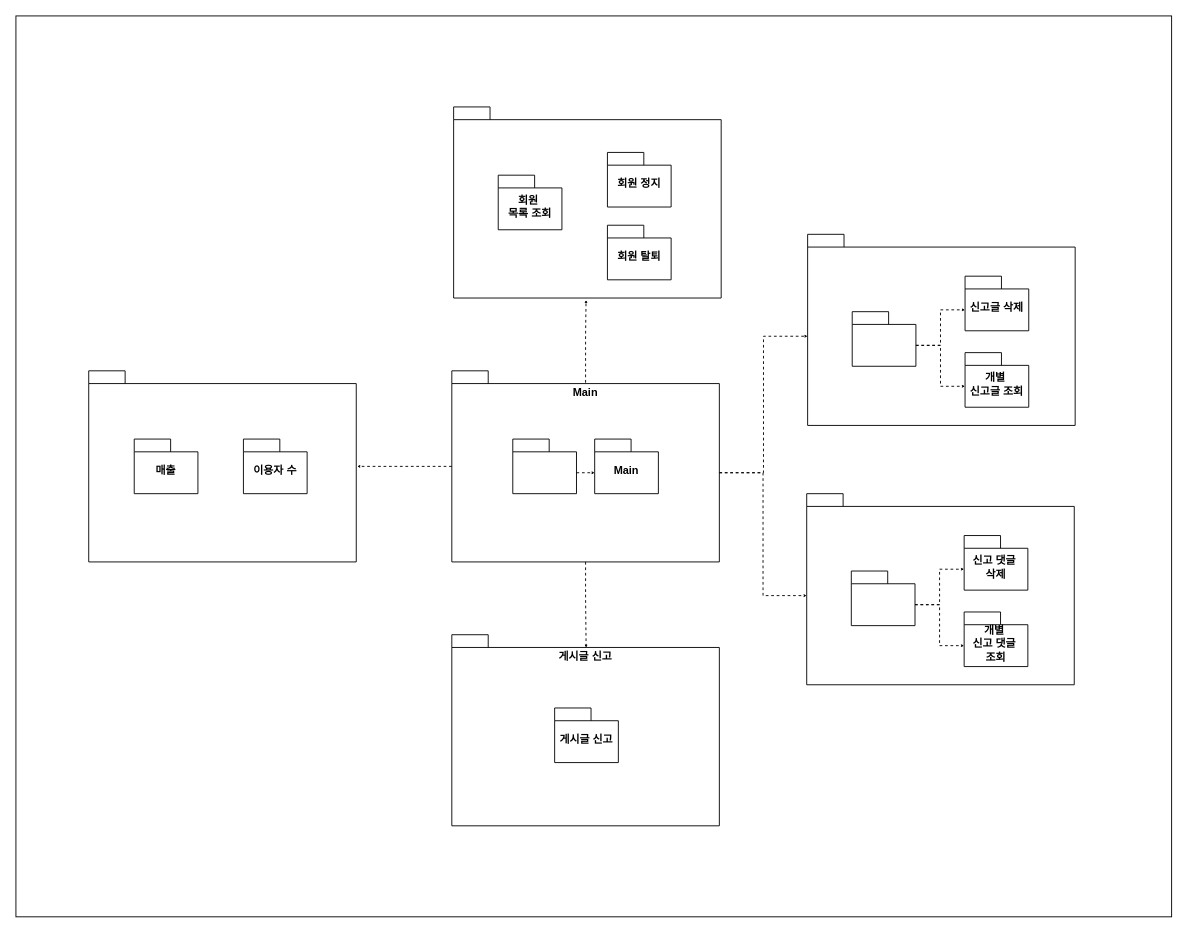
Image size: 1188x933. Some labels were removed from this diagram. The shapes that lost their labels are listed below. From the top down, each one's box as (x1, y1, x2, y2) in pixels, then its label:
(453, 106, 721, 298): 회원 관리
(851, 311, 916, 366): 신고글 목록 조회
(807, 233, 1075, 425): 게시글 신고 관리
(88, 370, 356, 562): 서비스 통계
(512, 438, 576, 494): 로그인
(850, 570, 915, 626): 신고 댓글 목록 조회
(806, 493, 1074, 685): 댓글 신고 관리
